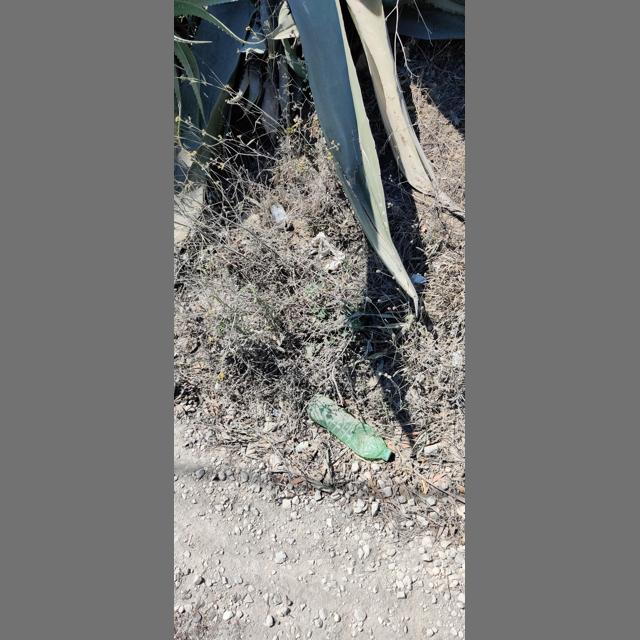litter: (308, 395, 393, 462), (300, 232, 346, 273), (272, 204, 291, 230), (411, 274, 427, 283), (384, 448, 393, 462)
